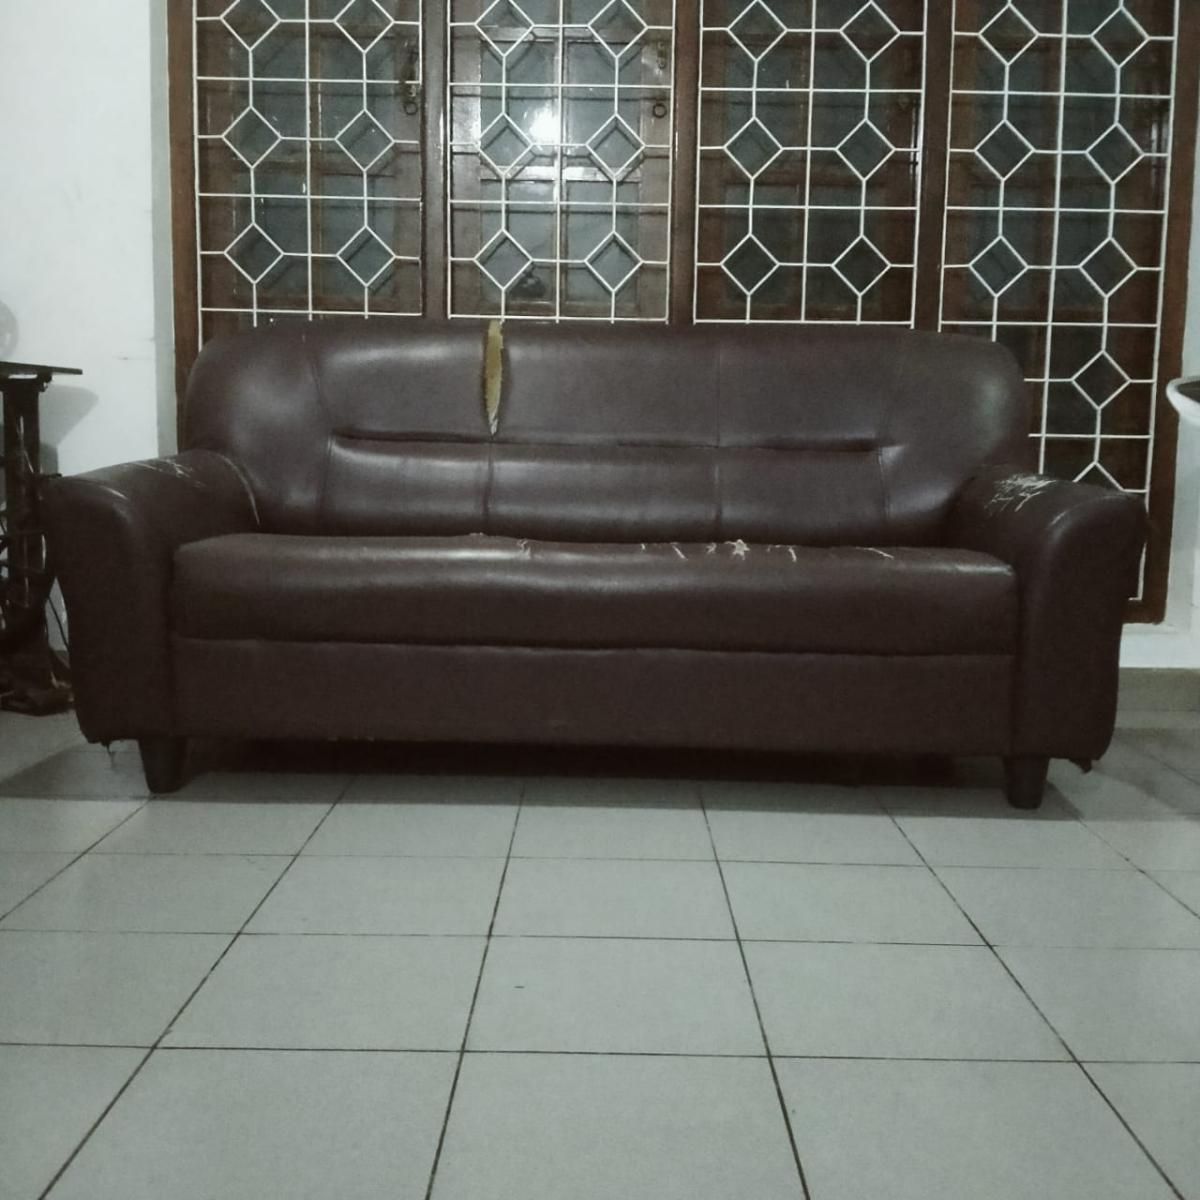Sofa: (53, 318, 1140, 808)
